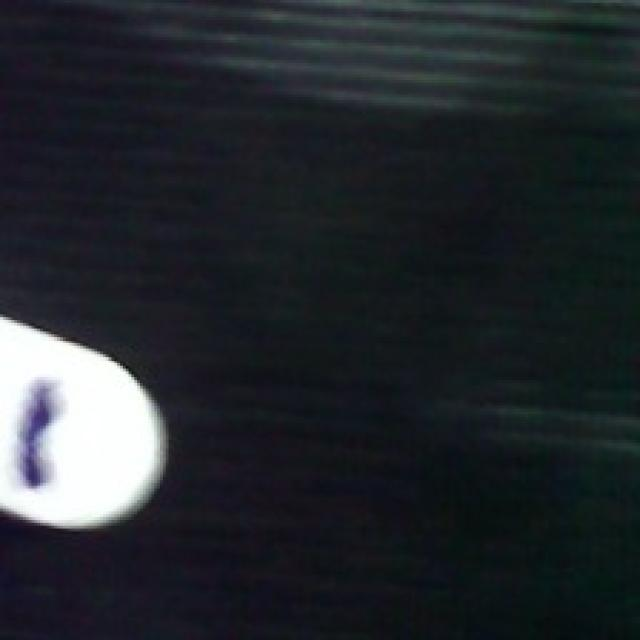defected: (0, 314, 174, 534)
